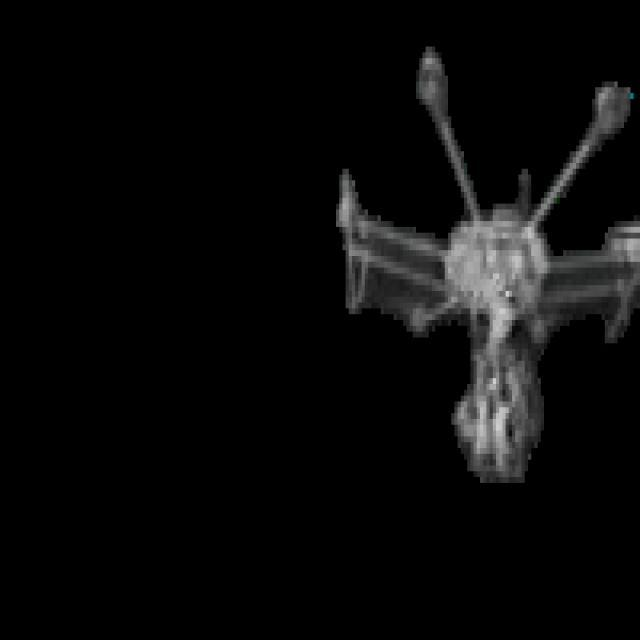drone: (326, 28, 640, 533)
